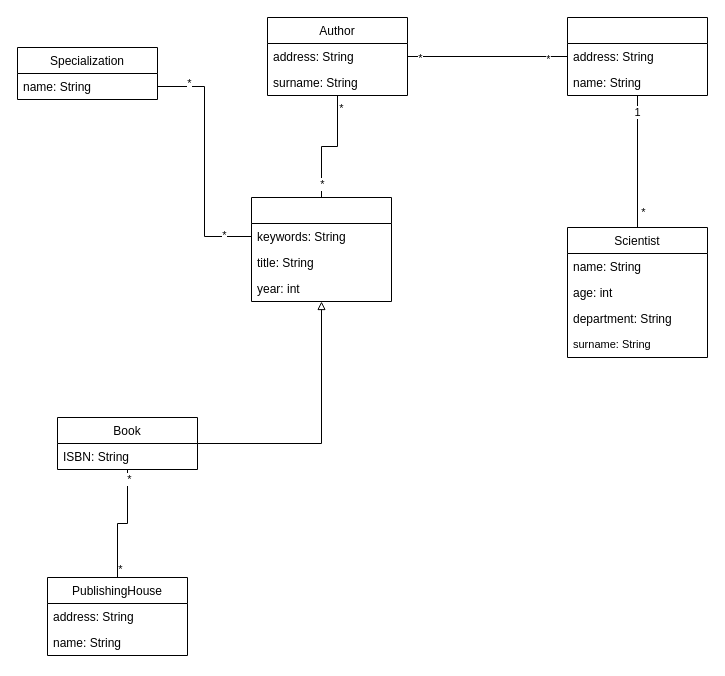
Image size: 725x676. Some labels were removed from this diagram. Each missing label, with the box of its shape:
Publication: (250, 196, 392, 302)
ScientificGroup: (566, 16, 708, 96)
